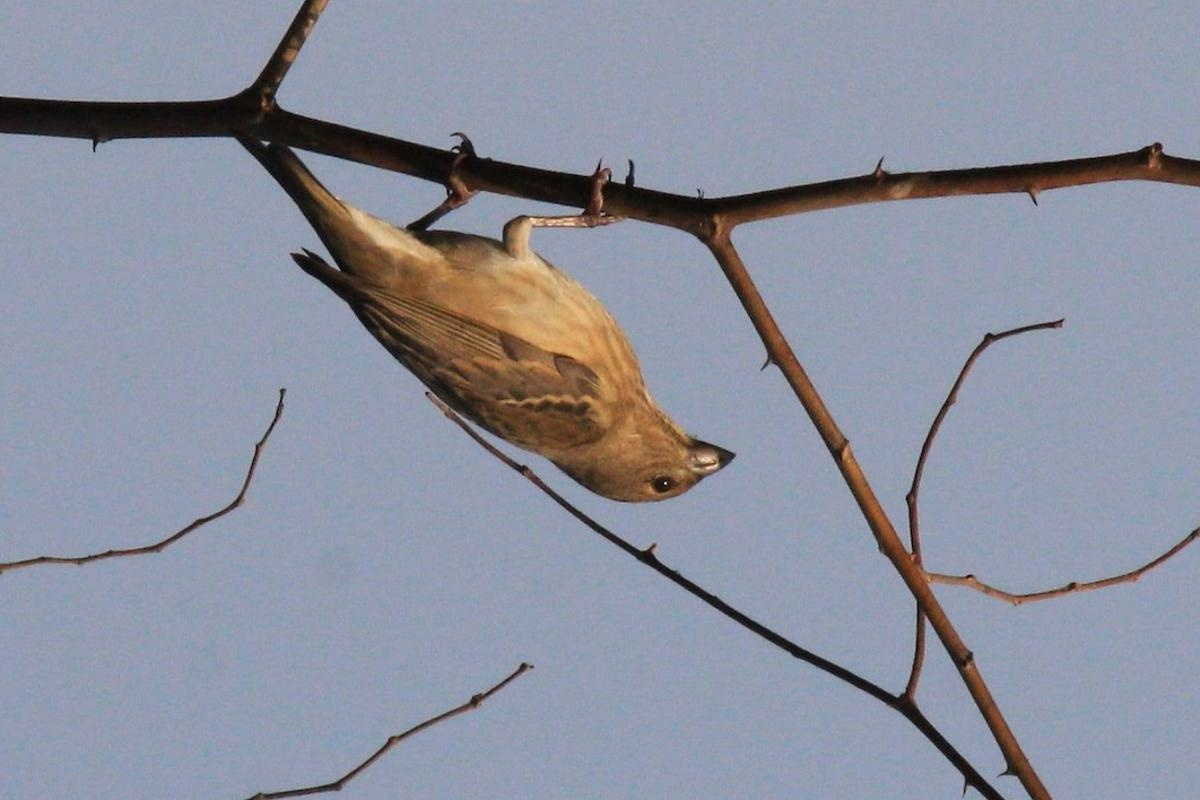rosefinch: (286, 106, 746, 521)
